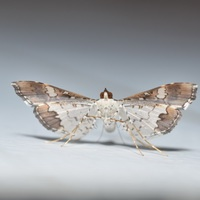insect: (11, 81, 197, 155)
